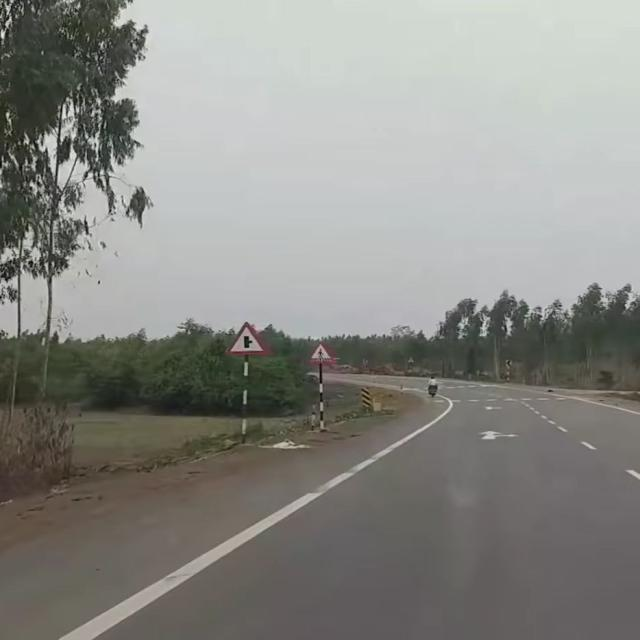Sideroad_toright: (226, 322, 268, 356)
